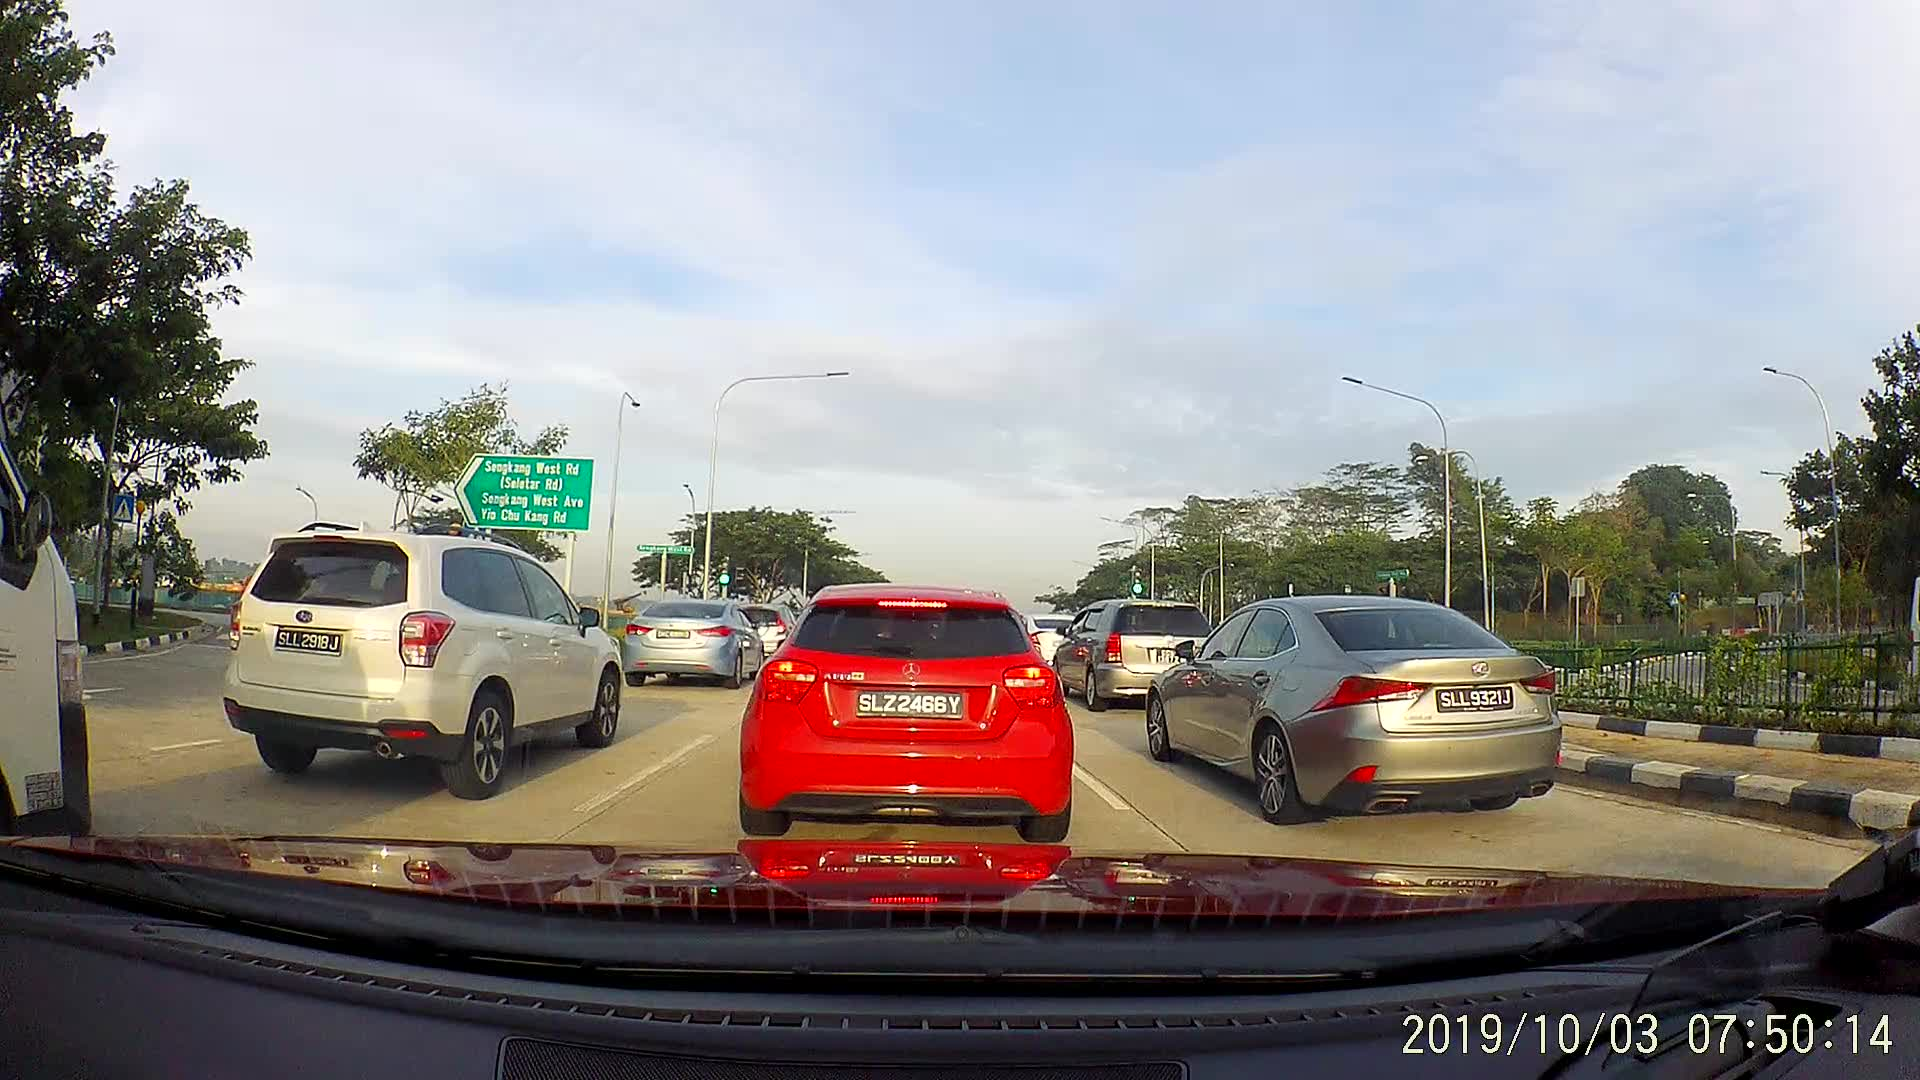car: (200, 517, 632, 804), (1143, 582, 1573, 835), (724, 560, 1088, 845), (1, 397, 87, 835), (1044, 593, 1218, 715), (612, 582, 770, 691)
